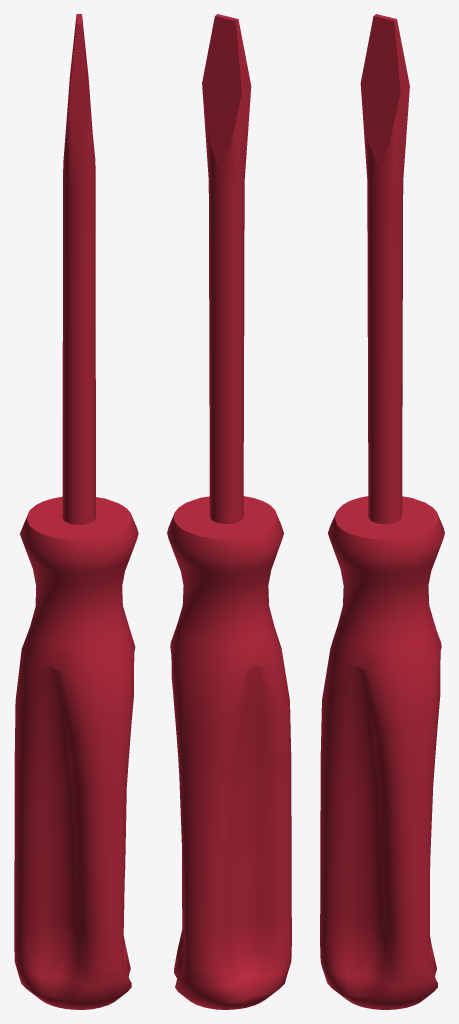
The model's file is screwdriver_low.fbx.
3 views of the same model, side by side, from view 1: azimuth 90°, elevation 25°; view 2: azimuth 150°, elevation 25°; view 3: azimuth 330°, elevation 25° (orthographic).
Parts seen in each view (by area): view 1: Screwdriver_001_low, Screwdriver_002_low; view 2: Screwdriver_001_low, Screwdriver_002_low; view 3: Screwdriver_001_low, Screwdriver_002_low.
Boxes of the visible parts, x1,y1,x2,y2 form: Screwdriver_001_low: [14, 496, 138, 1009]; Screwdriver_002_low: [62, 14, 95, 524]; Screwdriver_001_low: [167, 496, 291, 1009]; Screwdriver_002_low: [202, 14, 251, 524]; Screwdriver_001_low: [320, 496, 444, 1009]; Screwdriver_002_low: [360, 14, 409, 524].
Bounding box in the file's own units: 3.12 × 27.55 × 3.17.
